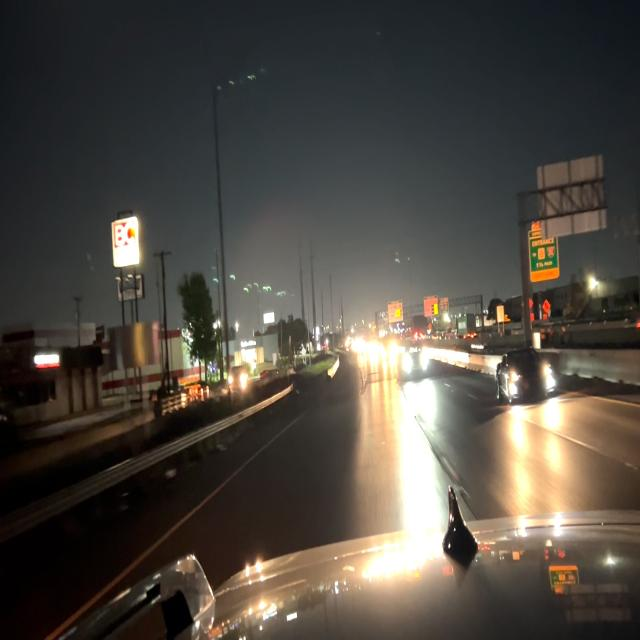back-of-sign: (533, 151, 608, 238)
